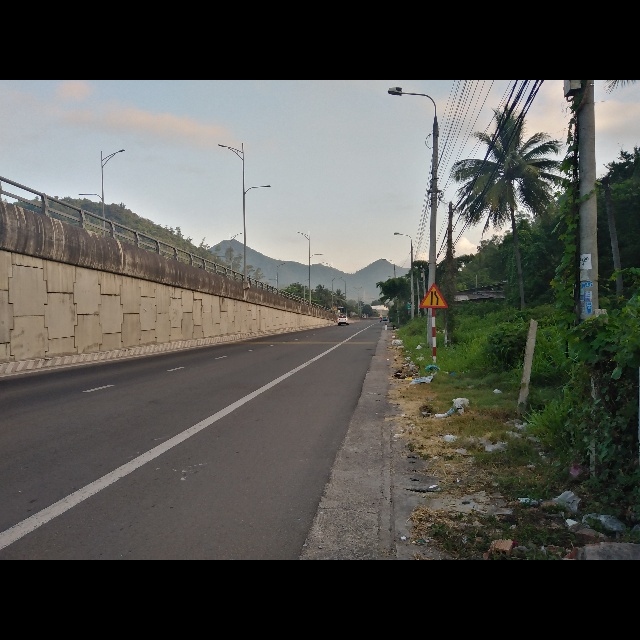Đường bị hẹp bên phải: (419, 282, 449, 309)
